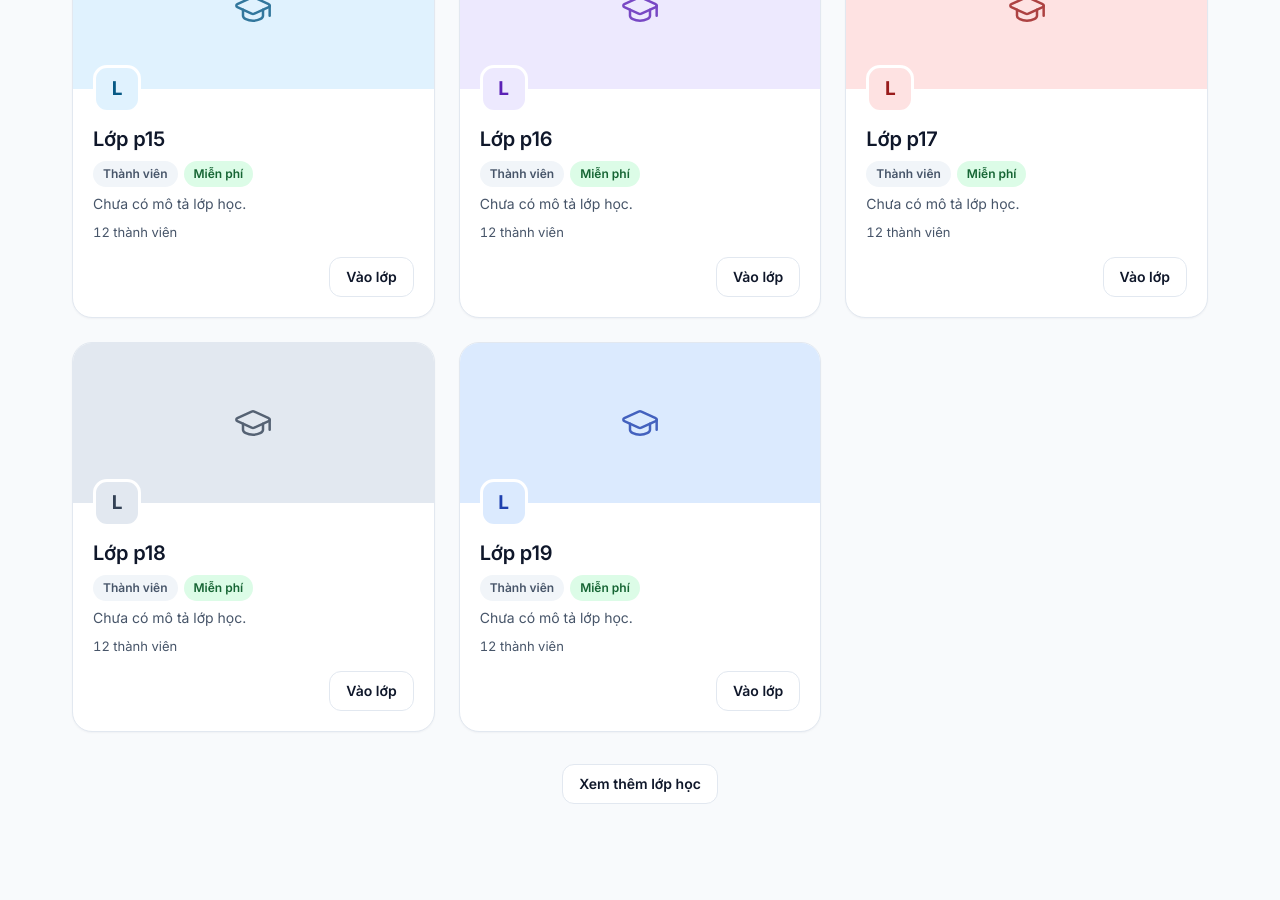
Test case: MyClassesPage › pages with "Xem thêm lớp học" until a short page arrives
(page scrolled)
Click the button "Xem thêm lớp học" at (640, 784), box [562,764,718,804]
(page scrolled)
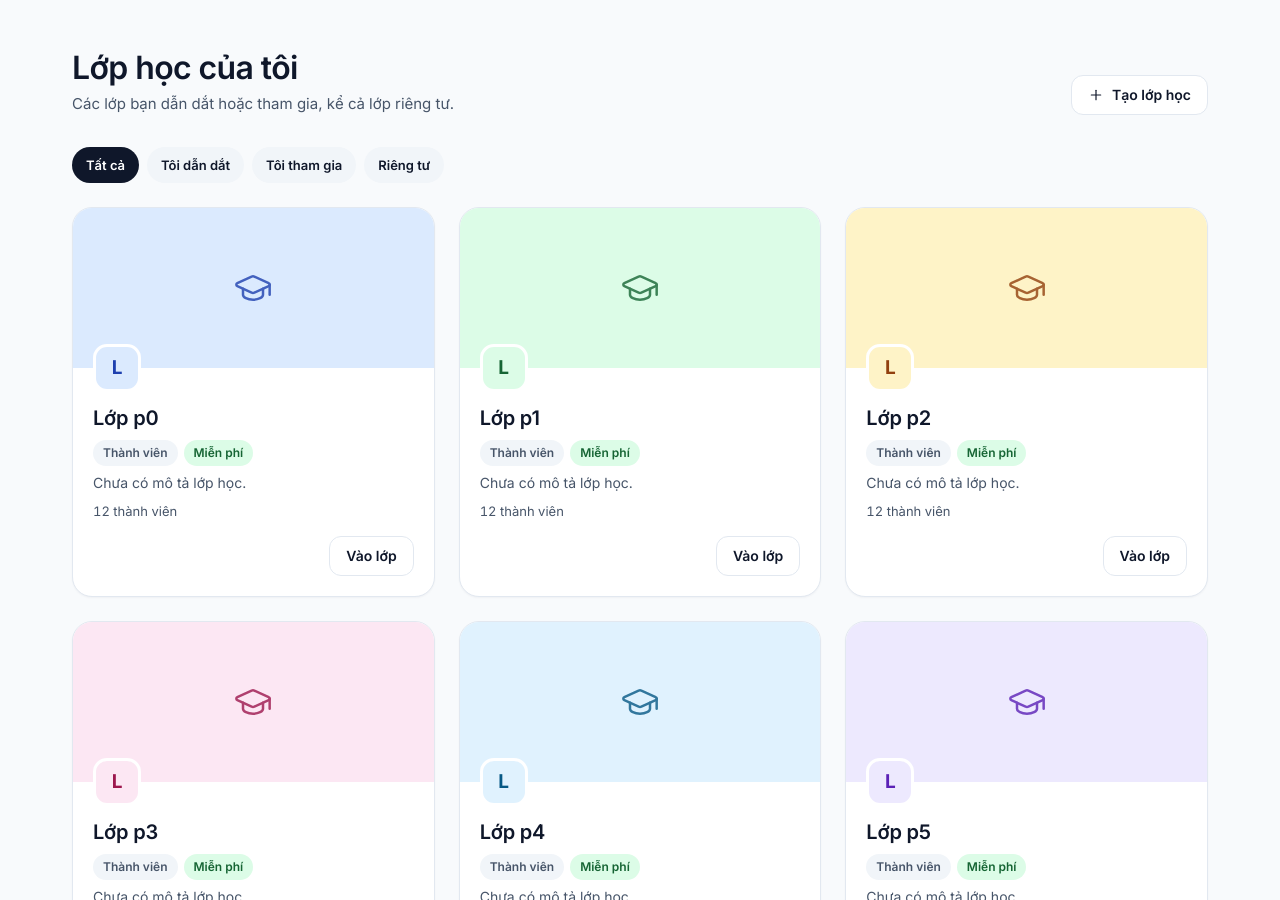
Expected: the heading "Lớp p0" is shown, [93,406,158,430]
Result: the button "Xem thêm lớp học" is gone
